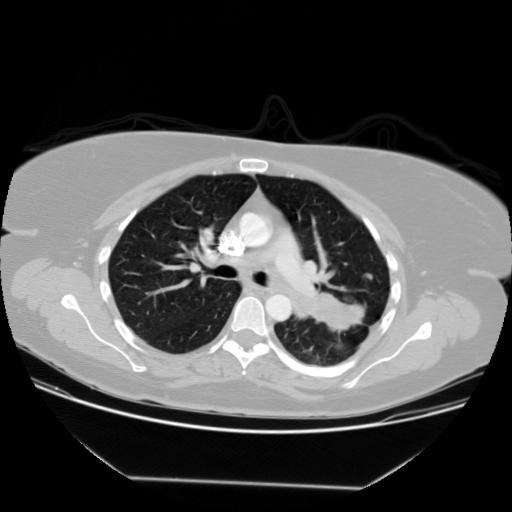nodule: (363, 270, 376, 283)
